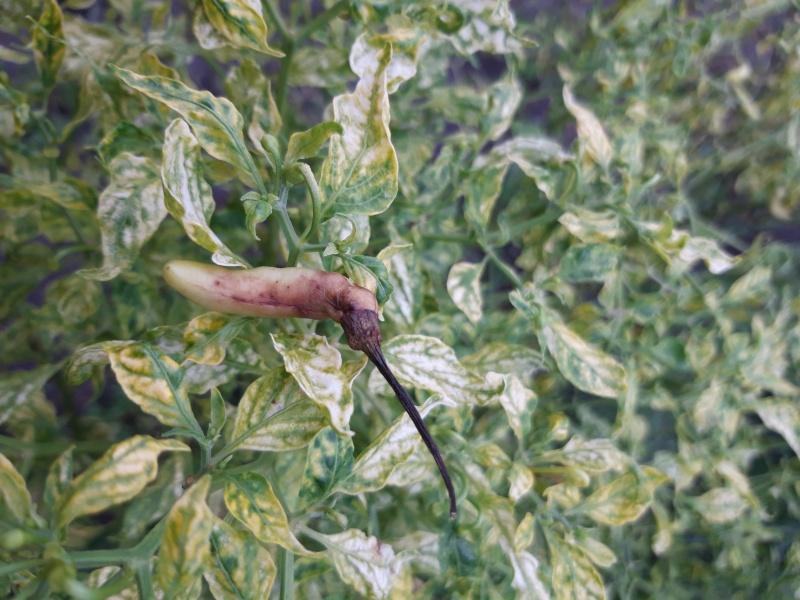antraknosa: (161, 258, 380, 332)
